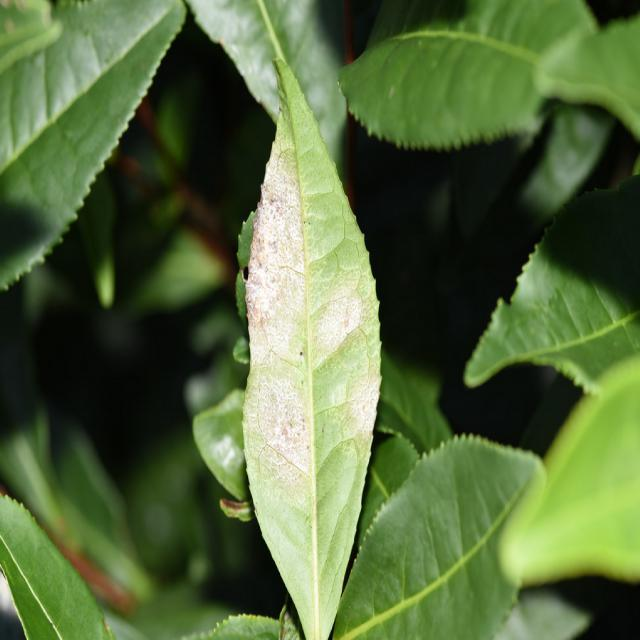Tea exobasidium blight: (255, 141, 385, 461)
